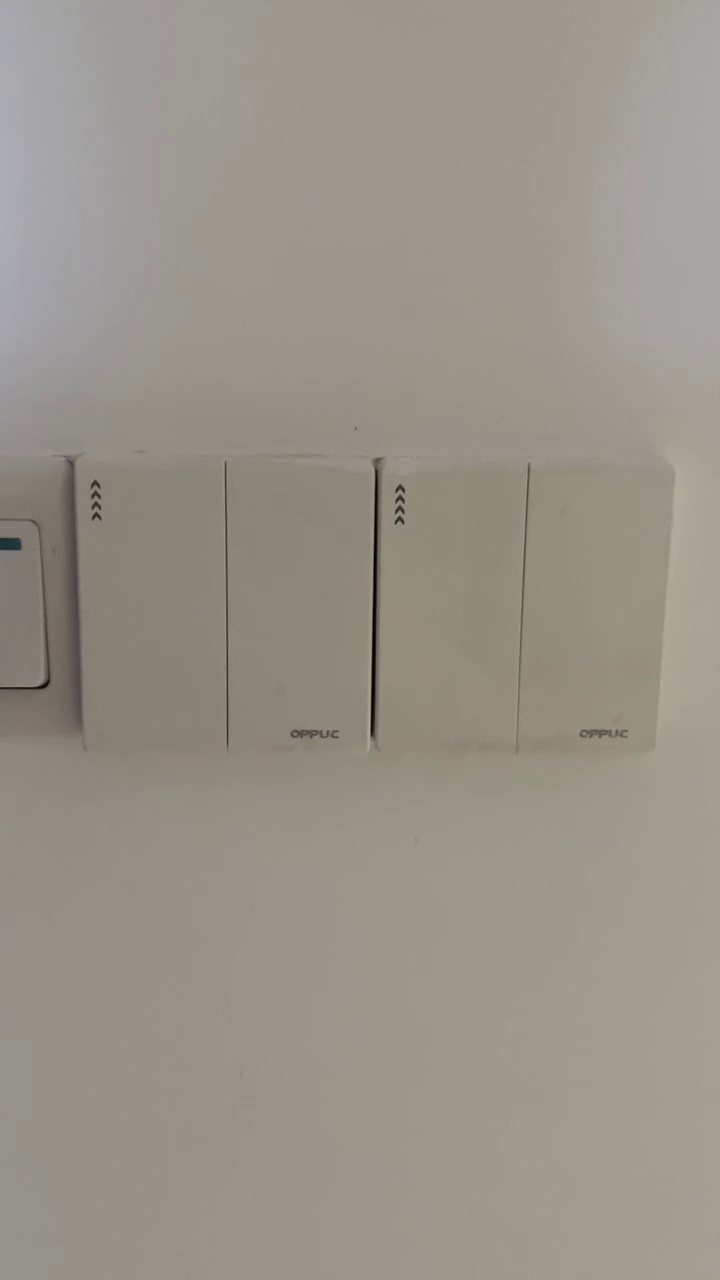button1: (78, 460, 226, 750), (373, 461, 522, 746), (230, 463, 372, 756), (522, 466, 662, 757)
